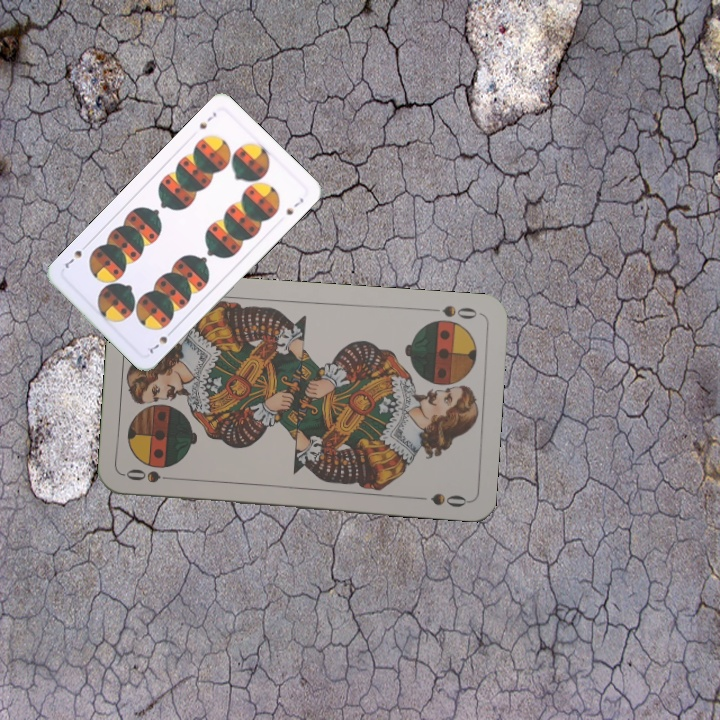S7: (146, 325, 177, 356), (195, 108, 219, 132)
SO: (122, 464, 181, 486), (423, 301, 480, 322)
